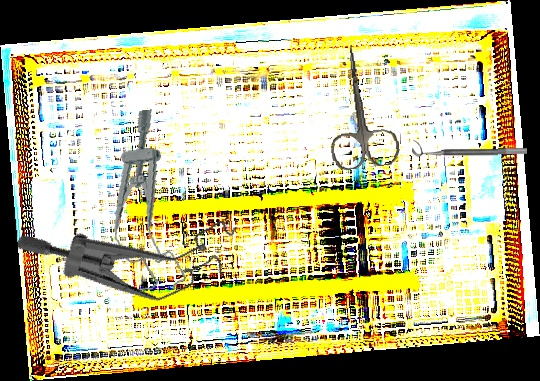Fixation Ring: (411, 137, 528, 158)
Iris Scissors: (317, 40, 402, 172)
Speculum: (13, 152, 254, 349), (100, 107, 187, 296)
